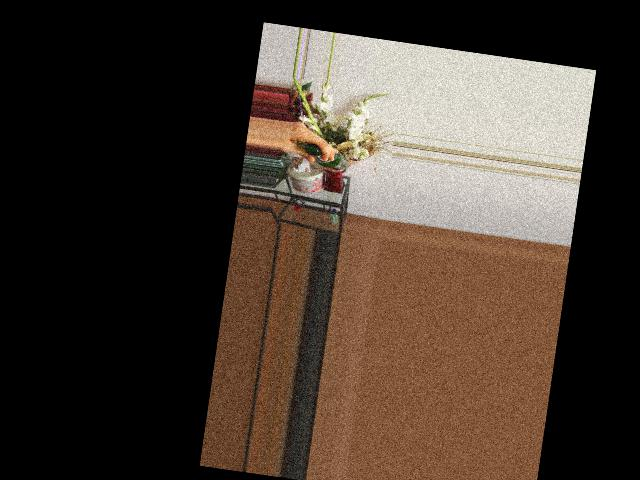beer: (302, 143, 350, 172)
